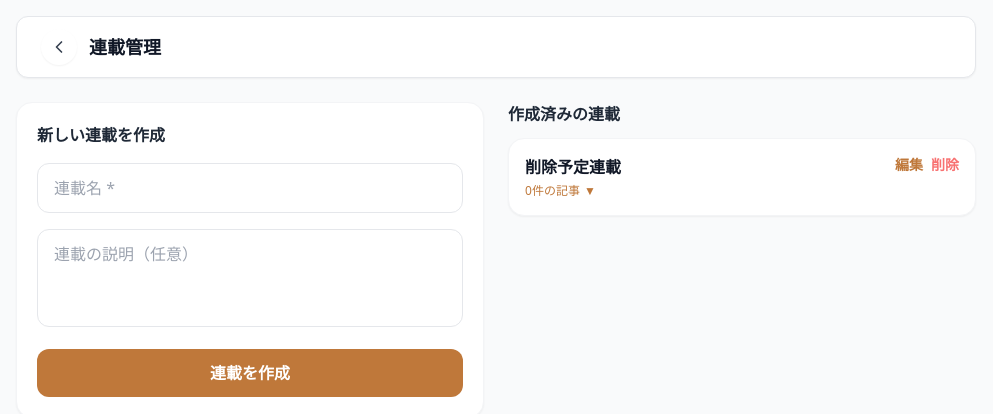
Test: WriterSeriesPage › deletes a series and removes it from list immediately
Click the button "削除".
click(945, 165)  # box x1=931 y1=155 x2=959 y2=175
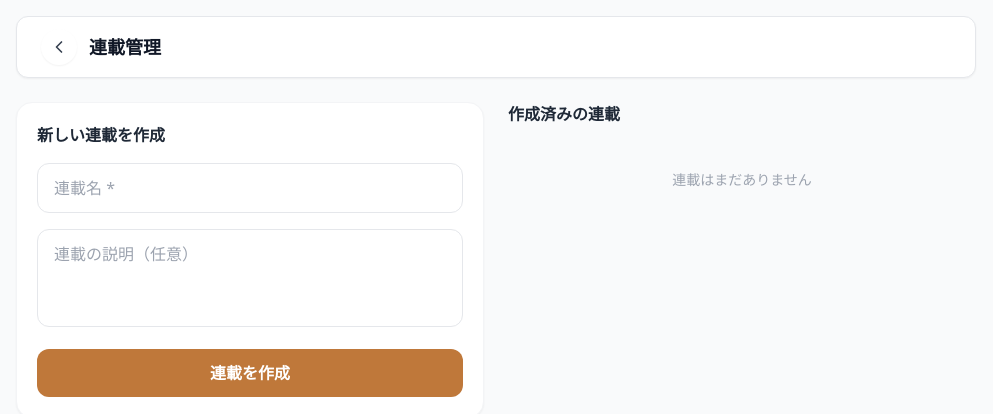
Check: the text "削除予定連載" is gone
